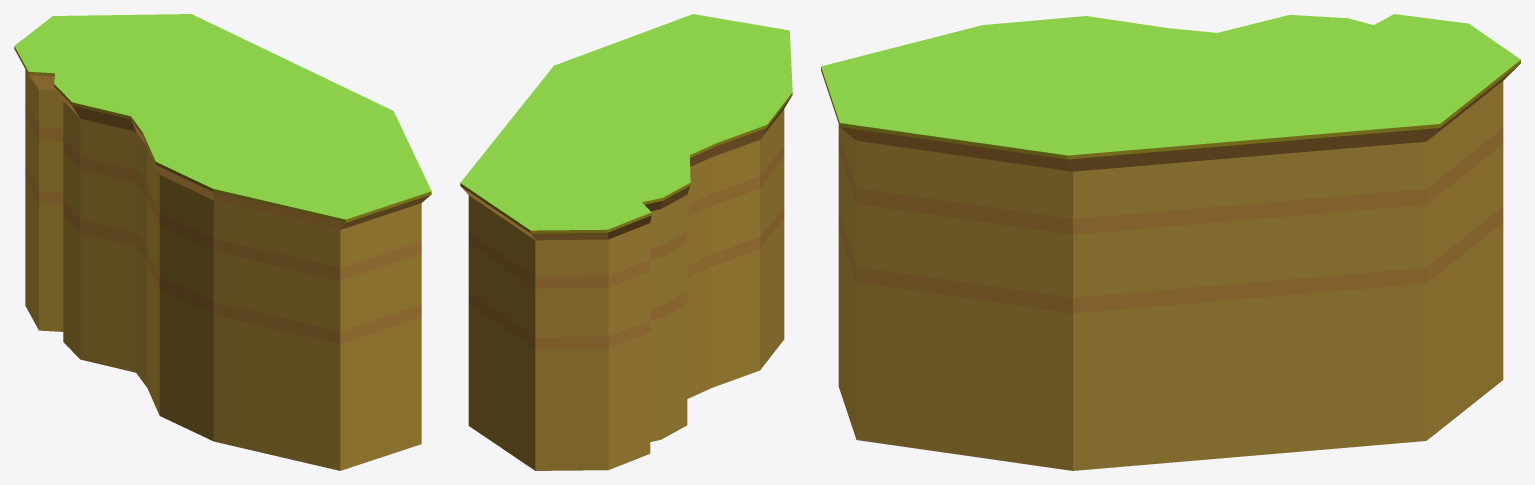
Rendered from canyon-plateau.obj.
The picture shows the model from 3 angles, left to right: view 1: azimuth 30°, elevation 25°; view 2: azimuth 150°, elevation 25°; view 3: azimuth 270°, elevation 25°; orthographic projection. The views are drawn at different scales.
Visible parts, largest first — view 1: canyon-plateau; view 2: canyon-plateau; view 3: canyon-plateau.
Boxes of the visible parts, x1,y1,x2,y2 form: canyon-plateau: (14, 14, 431, 470); canyon-plateau: (460, 14, 792, 470); canyon-plateau: (821, 14, 1520, 470).
Bounding box in the file's own units: 19.27 × 20.25 × 40.27.
